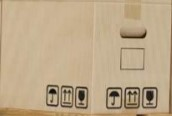stock: (1, 1, 172, 112)
